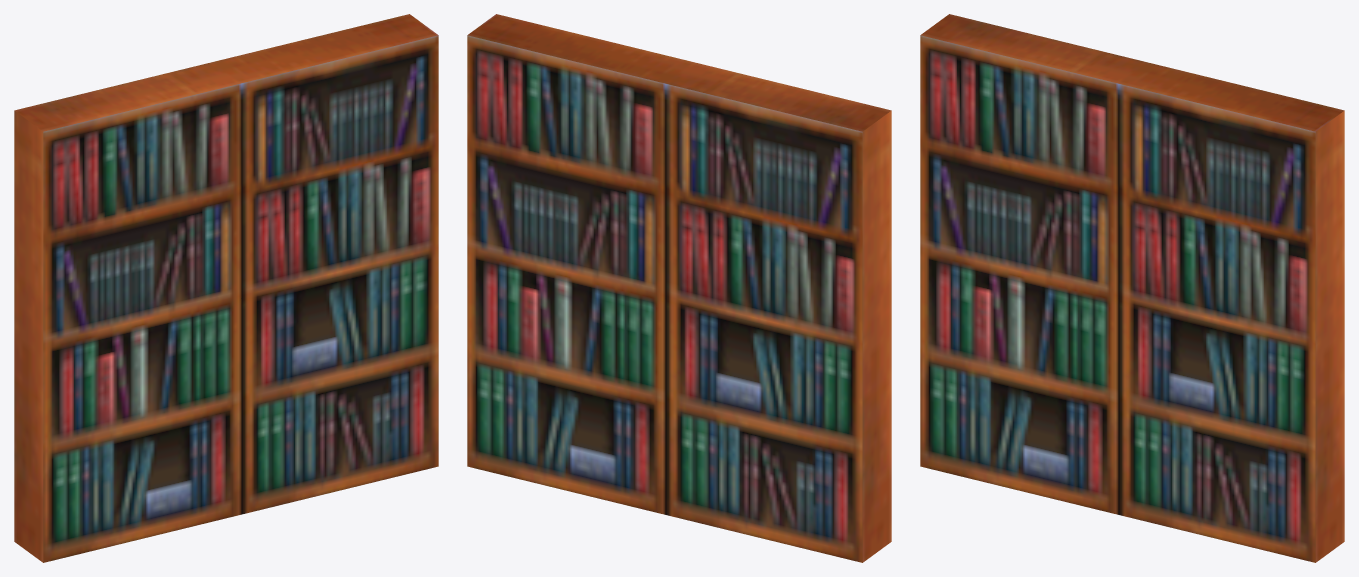
Rendered from lockeer09.glb.
3 views of the same model, side by side, from view 1: azimuth 30°, elevation 25°; view 2: azimuth 150°, elevation 25°; view 3: azimuth 330°, elevation 25° (orthographic).
Visible parts, largest first — view 1: lockeer09; view 2: lockeer09; view 3: lockeer09.
Boxes of the visible parts, x1,y1,x2,y2 form: lockeer09: (14,14,438,562); lockeer09: (467,14,891,562); lockeer09: (920,14,1344,562).
Size of the model in its own units: 554 by 578 by 70.57.
2 materials, 2 textured.
